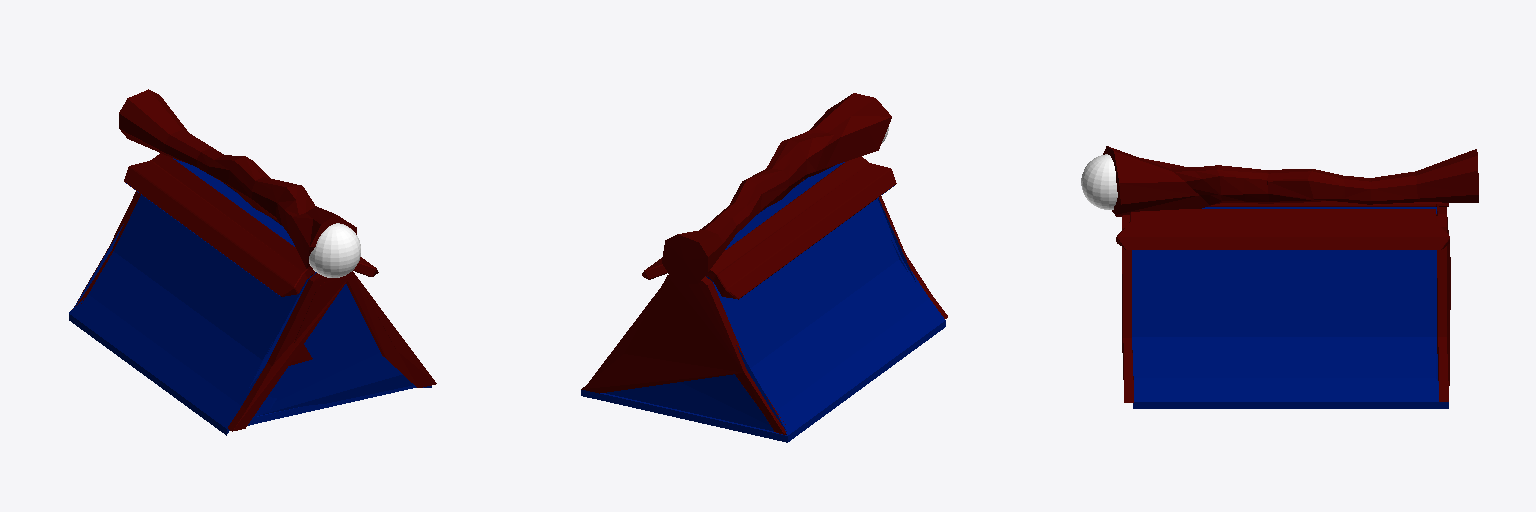
Rendered from Tenteb.obj.
3 views of the same model, side by side, from view 1: azimuth 30°, elevation 25°; view 2: azimuth 150°, elevation 25°; view 3: azimuth 270°, elevation 25° (orthographic).
Parts seen in each view (by area): view 1: pCube1 polySurface1 polySurface4 polySurface6, pCube1 polySurface3 polySurface1, pCylinder1, pCube1 polySurface1 polySurface4 polySurface7, pSphere1, pCube1 polySurface1 polySurface5 polySurface4; view 2: pCube1 polySurface1 polySurface4 polySurface6, pCube1 polySurface1 polySurface5 polySurface4, pCylinder1, pCube1 polySurface3 polySurface1; view 3: pCube1 polySurface1 polySurface4 polySurface6, pCylinder1, polySurface2 pCube1, pCube1 polySurface1 polySurface5 polySurface4, pCube1 polySurface1 polySurface4 polySurface7, pSphere1, pCube1 polySurface3 polySurface1.
Boxes of the visible parts, x1,y1,x2,y2 form: pCube1 polySurface1 polySurface4 polySurface6: [69, 158, 431, 435]; pCube1 polySurface3 polySurface1: [124, 153, 314, 296]; pCylinder1: [119, 89, 356, 270]; pCube1 polySurface1 polySurface4 polySurface7: [228, 271, 436, 431]; pSphere1: [309, 223, 360, 277]; pCube1 polySurface1 polySurface5 polySurface4: [72, 191, 140, 309]; pCube1 polySurface1 polySurface4 polySurface6: [581, 162, 945, 442]; pCube1 polySurface1 polySurface5 polySurface4: [581, 275, 786, 434]; pCylinder1: [662, 93, 891, 284]; pCube1 polySurface3 polySurface1: [706, 156, 896, 299]; pCube1 polySurface1 polySurface4 polySurface6: [1132, 207, 1448, 408]; pCylinder1: [1103, 146, 1478, 216]; polySurface2 pCube1: [1116, 209, 1449, 249]; pCube1 polySurface1 polySurface5 polySurface4: [1436, 207, 1450, 401]; pCube1 polySurface1 polySurface4 polySurface7: [1122, 215, 1133, 402]; pSphere1: [1081, 154, 1117, 209]; pCube1 polySurface3 polySurface1: [1208, 201, 1448, 206].
Bounding box in the file's own units: 4.68 × 4.46 × 7.78.